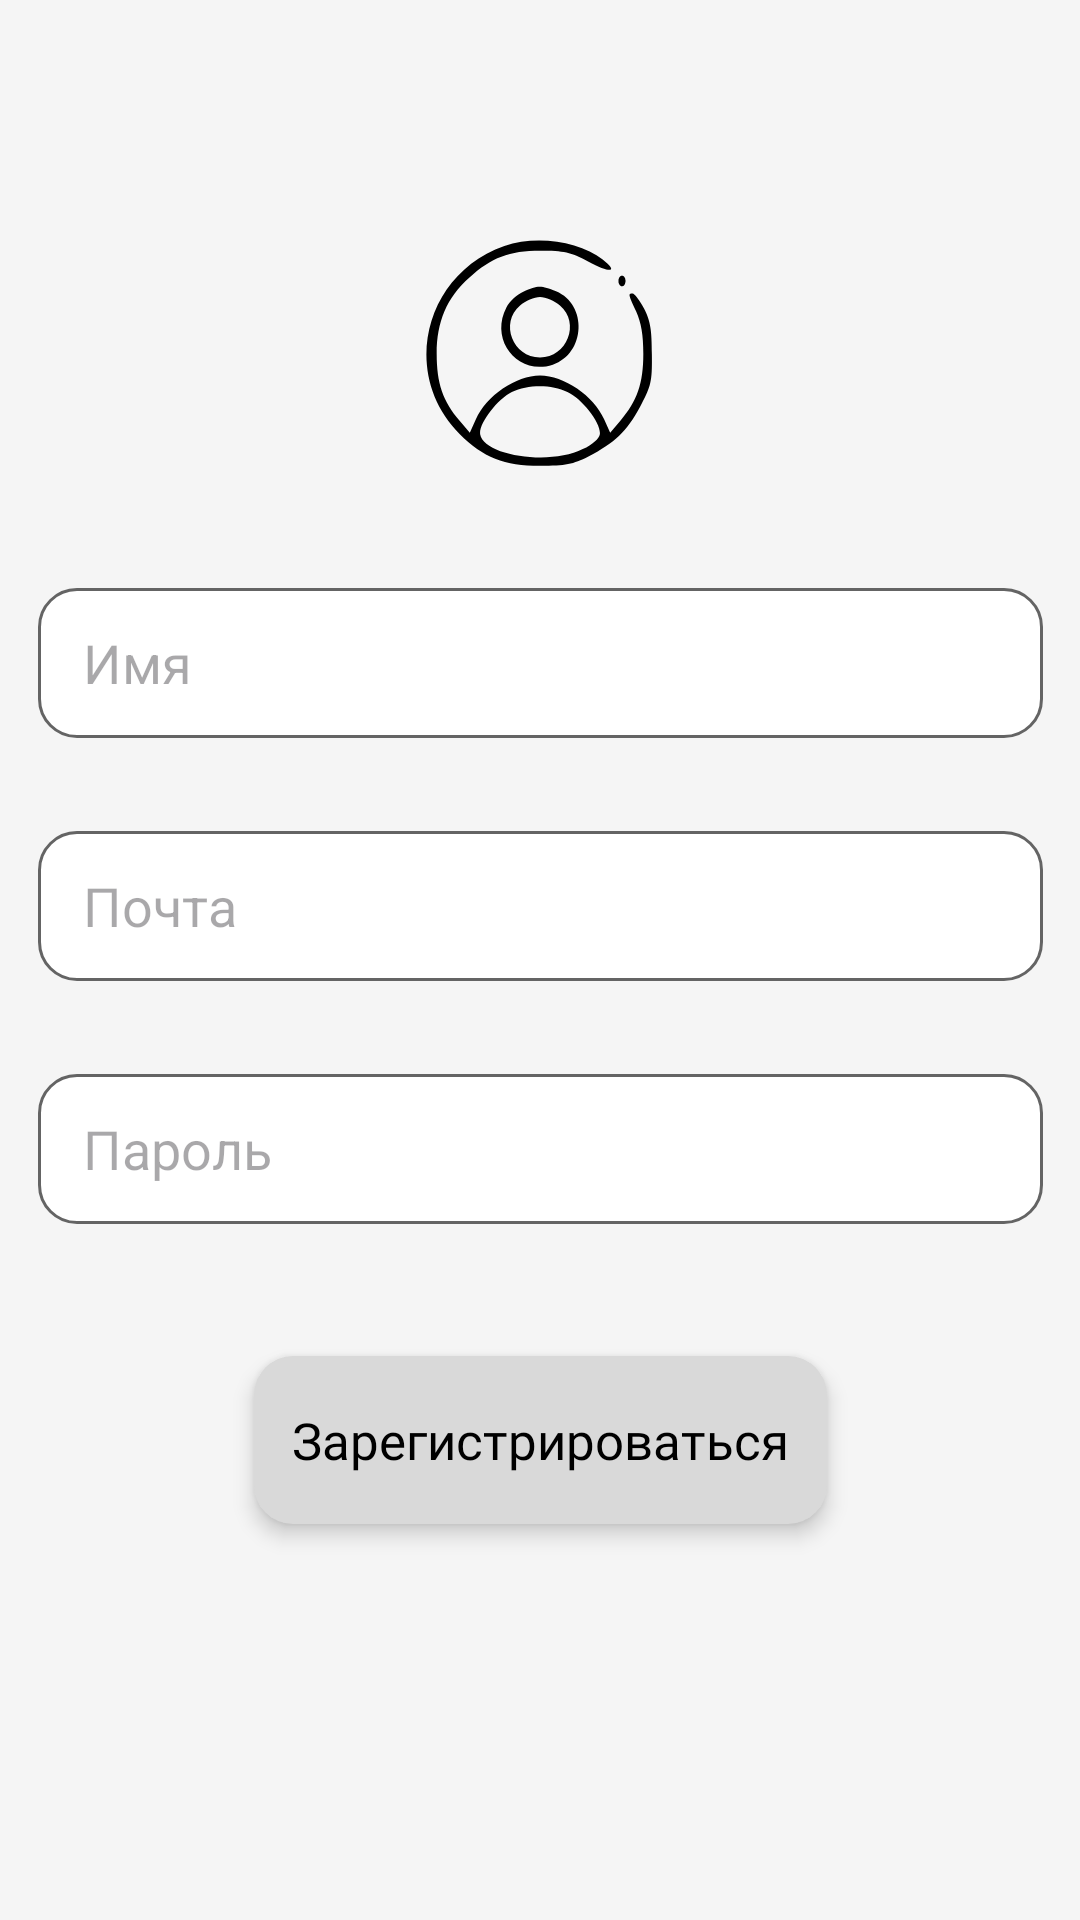

Point at icon controls on the screen. Image size 1080px×1920px, points as point (x, y).
user: point (539, 353)
